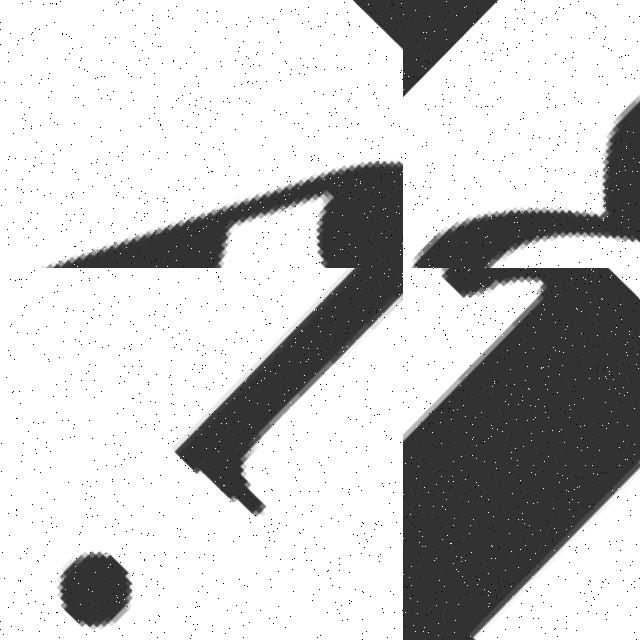3: (403, 0, 640, 268)
I: (0, 268, 403, 640)
T: (403, 268, 640, 640)
Y: (0, 0, 403, 268)
